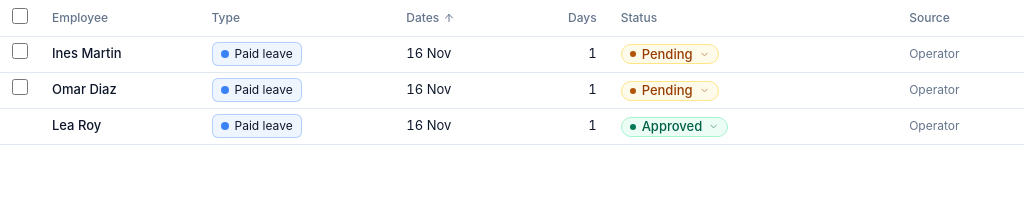
Test: bulk approve › only pending rows can be selected and the button shows the count
The image size is (1024, 206).
Check: the button "Approve selected" is not shown
Click the checkbox named "Select Ines Martin's leave": click(20, 51) top-left (12, 43), bottom-right (28, 59)
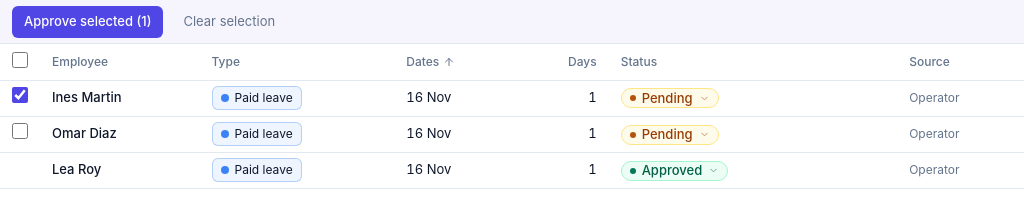
Check: the button "Approve selected (1)" is shown, box top-left (12, 6), bottom-right (164, 38)
Click the checkbox named "Select all pending leaves": click(20, 60) top-left (12, 52), bottom-right (28, 68)
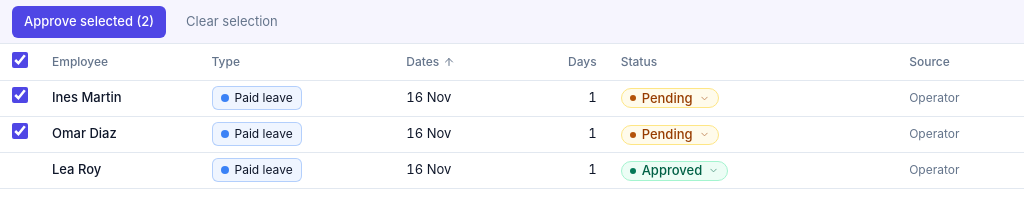
Check: the button "Approve selected (2)" is shown, box top-left (12, 6), bottom-right (166, 38)
